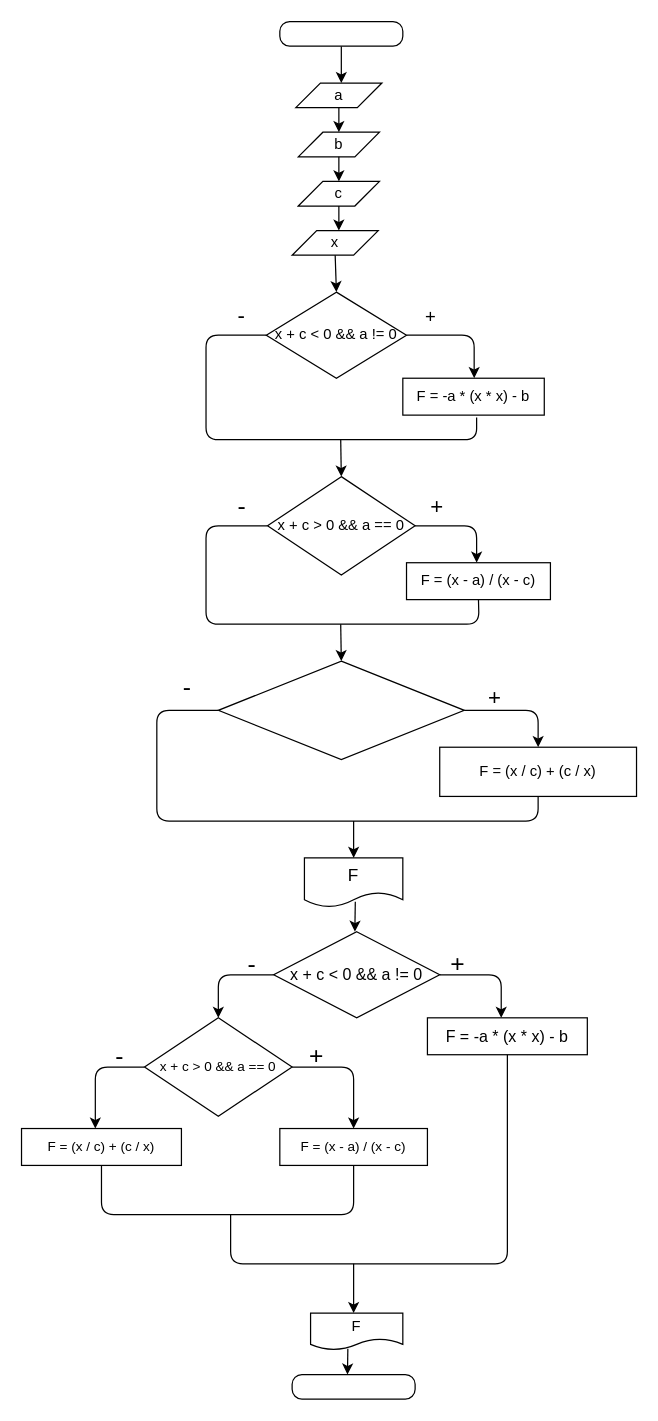
This 658x1421 diagram has some shape labels left out. Each missing label, with the centre of its shape:
!(x + c < 0 && a != 0) && !(x + c > 0 && a == 0): (x=340, y=710)
кінець: (x=353, y=1386)
початок: (x=341, y=33)
